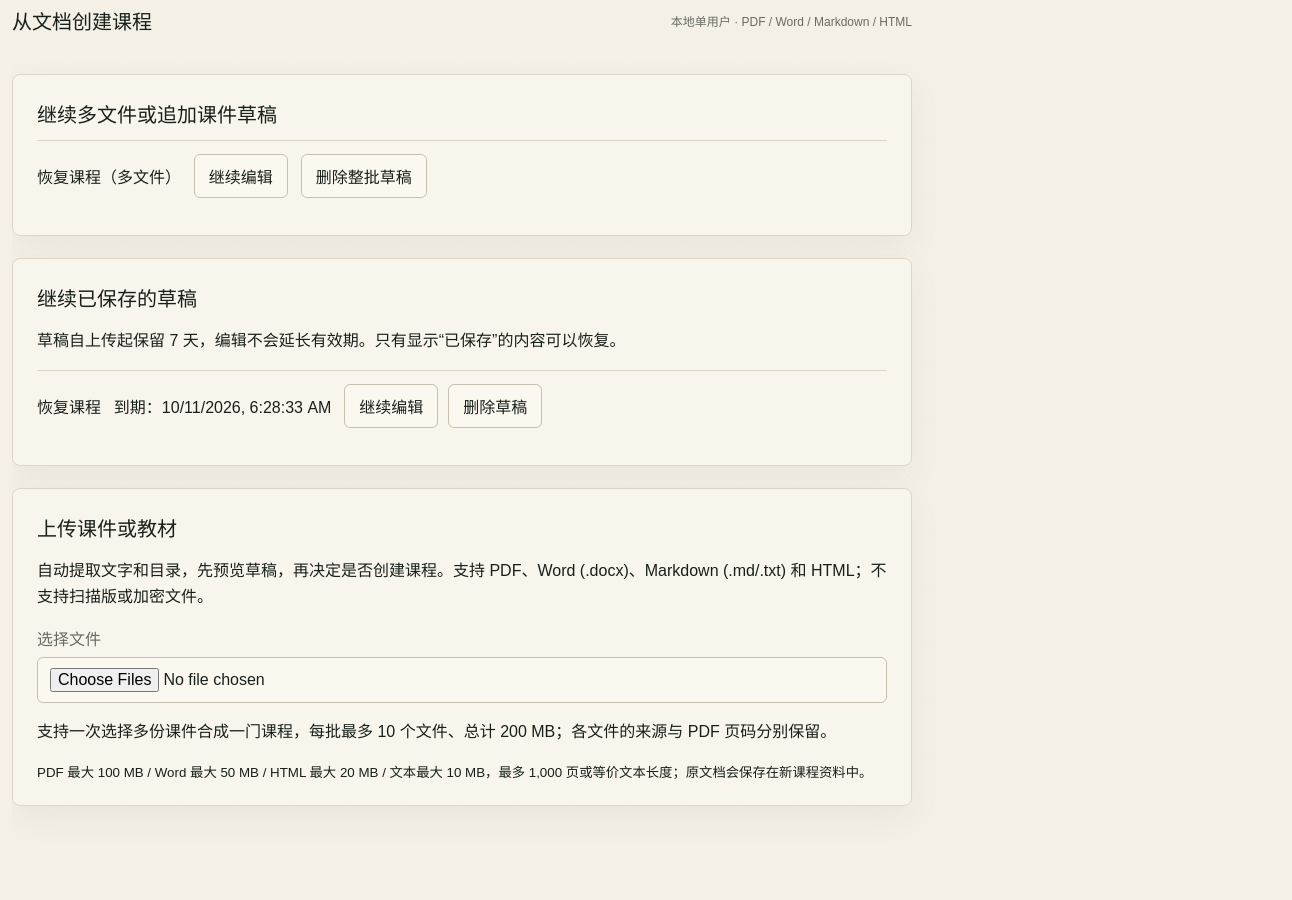
Test case: CourseImportPage › keeps a recovery entry visible when confirmed deletion fails
Expected: the text "恢复课程" is shown, [37,394,101,418]
Click the button with aria-label "删除恢复课程草稿" at (495, 406), box [448,384,542,428]
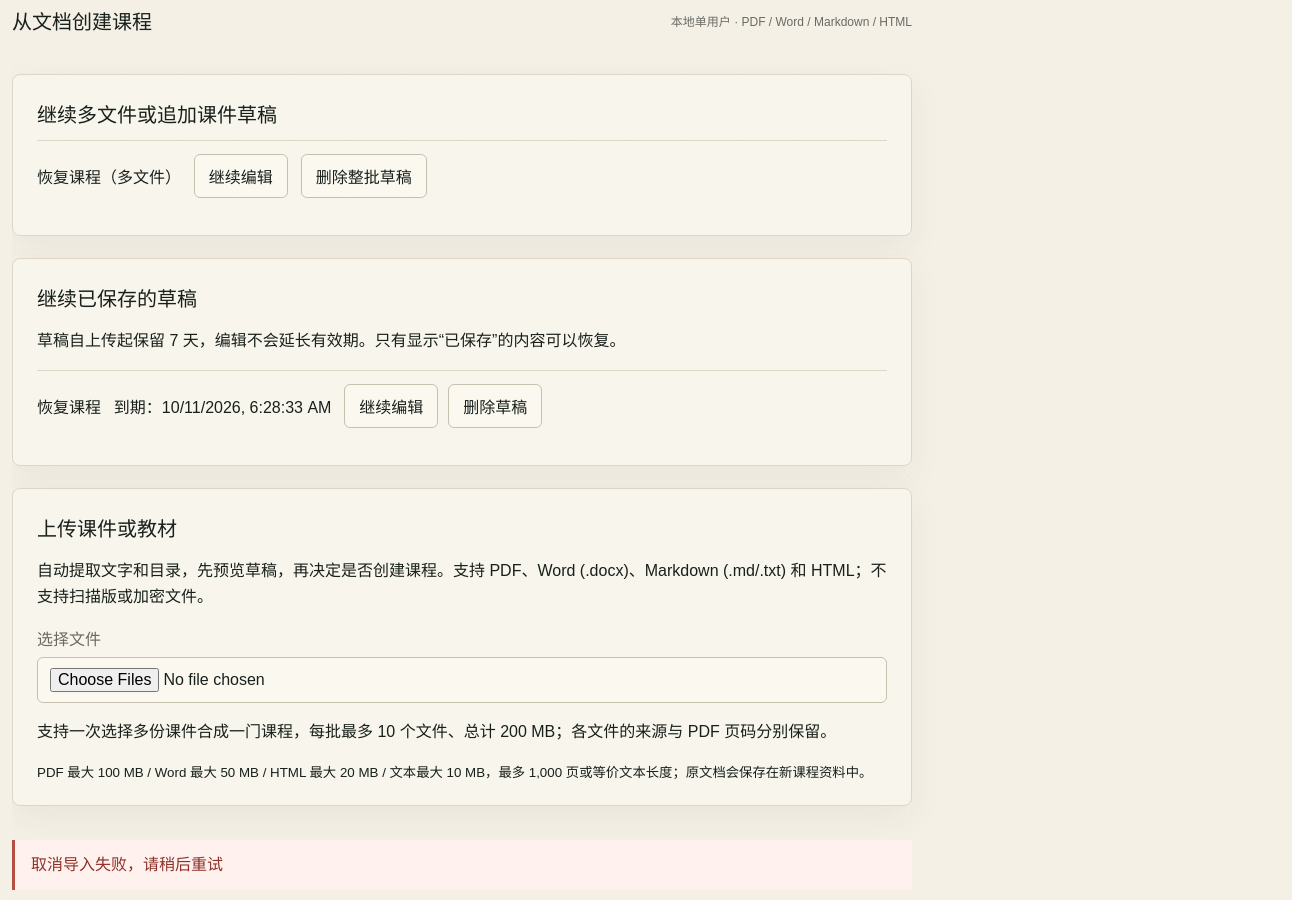
Expected: the text "恢复课程" is shown, [37,394,101,418]
Now the text "取消导入失败，请稍后重试" is shown, box [12,840,912,890]
